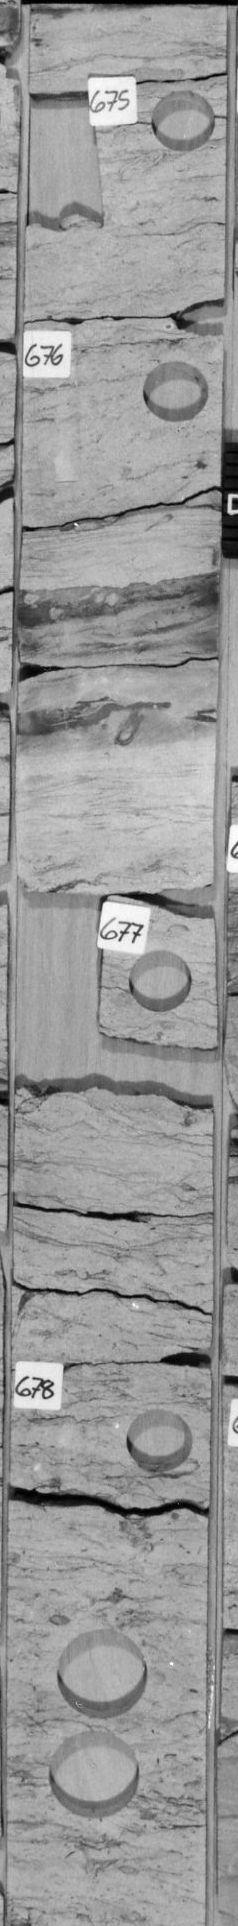hplug: (121, 1400, 198, 1484), (134, 354, 216, 427), (124, 945, 196, 1015), (146, 84, 220, 152)
scal: (52, 1624, 155, 1722), (44, 1728, 140, 1822)
vplug: (29, 86, 114, 236), (34, 882, 112, 1032)
